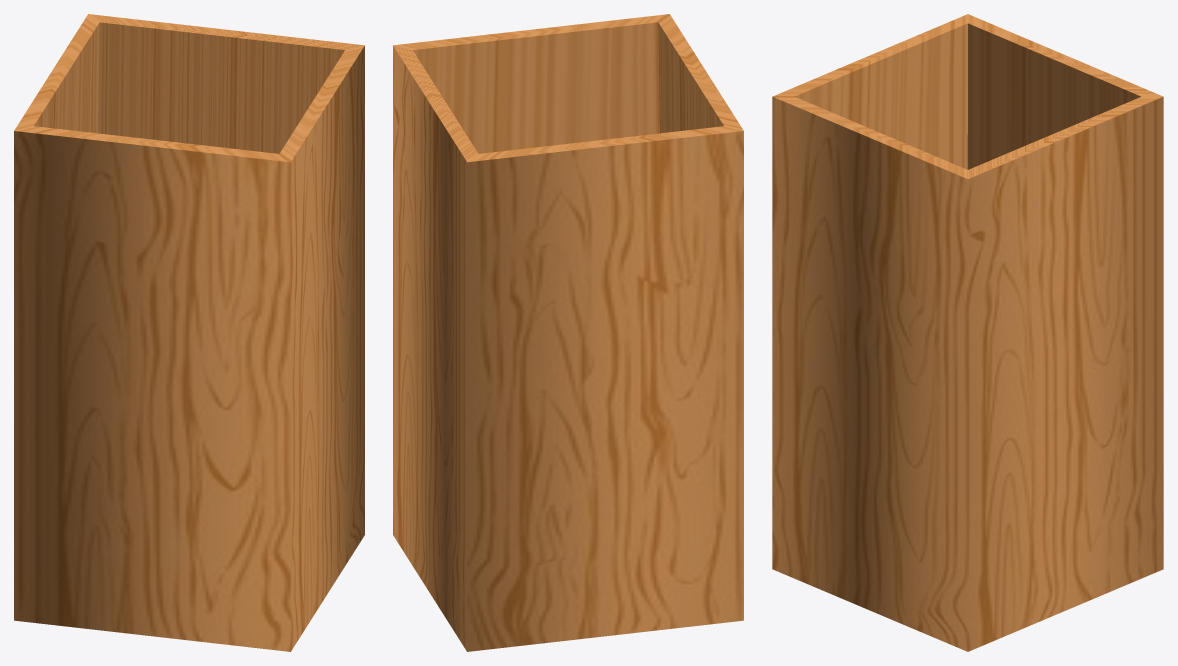
Rendered from CubosDardos.fbx.
The picture shows the model from 3 angles, left to right: view 1: azimuth 30°, elevation 25°; view 2: azimuth 150°, elevation 25°; view 3: azimuth 270°, elevation 25°; orthographic projection. The views are drawn at different scales.
Parts seen in each view (by area): view 1: Cylinder001; view 2: Cylinder001; view 3: Cylinder001.
Boxes of the visible parts, left/top/right/bottom form: Cylinder001: left=14, top=14, right=364, bottom=651; Cylinder001: left=393, top=14, right=743, bottom=651; Cylinder001: left=772, top=14, right=1163, bottom=651.
Size of the model in its own units: 89.45 by 119 by 89.45.
